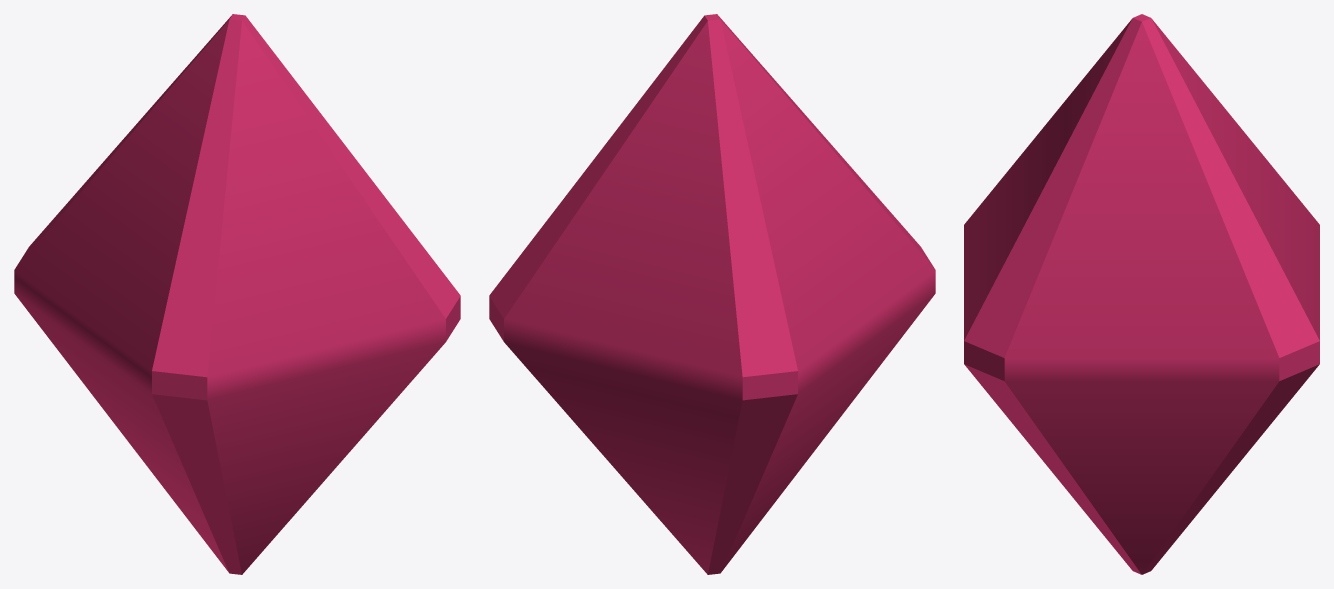
Rendered from gem-pink.glb.
3 views of the same model, side by side, from view 1: azimuth 30°, elevation 25°; view 2: azimuth 150°, elevation 25°; view 3: azimuth 270°, elevation 25° (orthographic).
Parts seen in each view (by area): view 1: UI_Gem_Pink; view 2: UI_Gem_Pink; view 3: UI_Gem_Pink.
Boxes of the visible parts, x1,y1,x2,y2 form: UI_Gem_Pink: (14, 14, 460, 574); UI_Gem_Pink: (489, 14, 935, 574); UI_Gem_Pink: (964, 14, 1319, 574).
Size of the model in its own units: 0.4229 by 0.7251 by 0.4229.
1 material, 1 textured.
